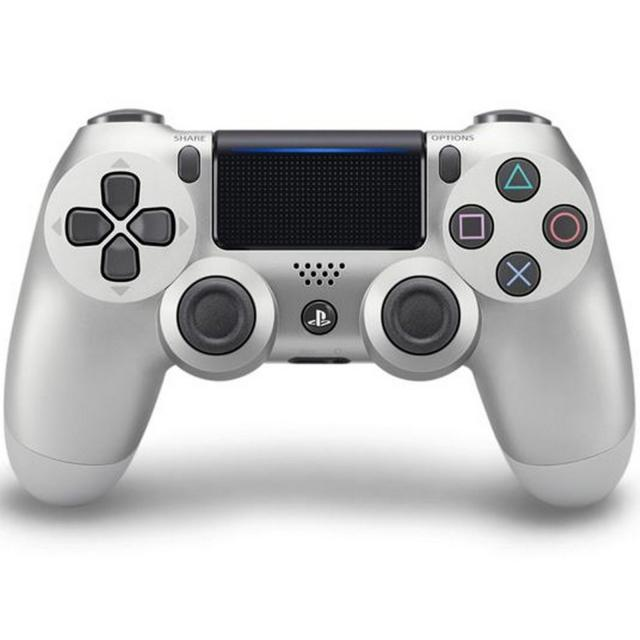ps4_controller: (1, 88, 640, 509)
